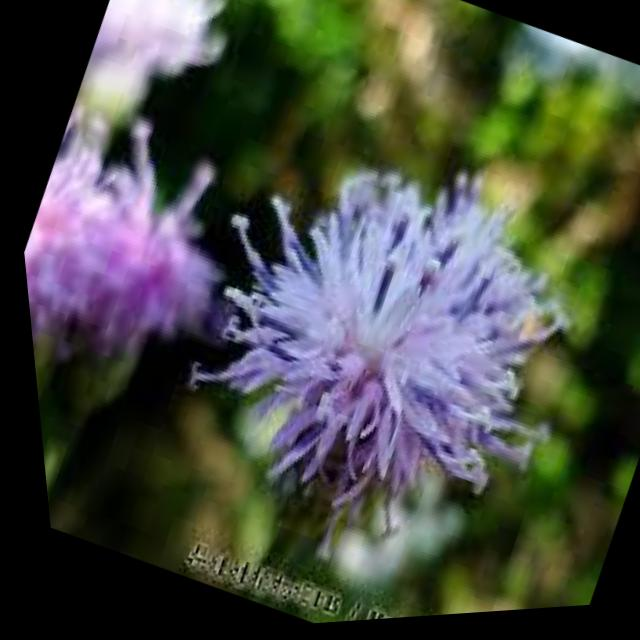Flower: (117, 96, 628, 587)
